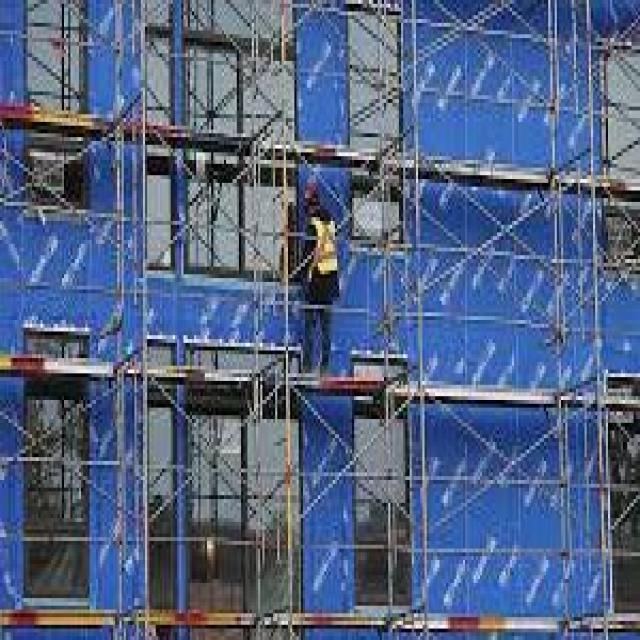Reflective-Jacket: (303, 213, 343, 286)
